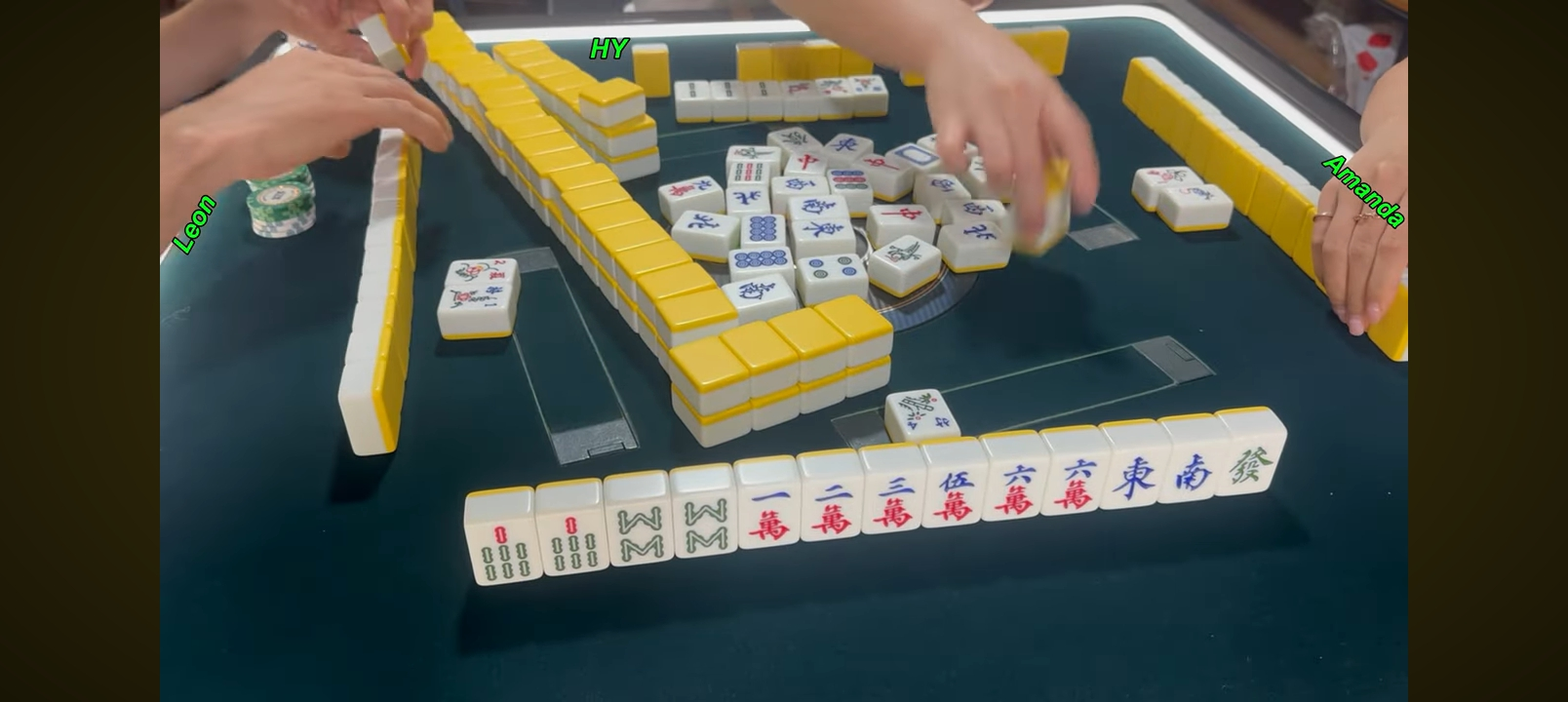TILE: (465, 521, 540, 585), (537, 512, 611, 576), (671, 494, 739, 558), (605, 504, 672, 565), (738, 485, 802, 548), (802, 477, 863, 541), (1046, 454, 1109, 515), (863, 472, 927, 532), (927, 467, 989, 527), (1162, 444, 1228, 500), (985, 462, 1048, 520), (1104, 449, 1167, 507), (886, 389, 962, 436), (1222, 438, 1283, 493)
